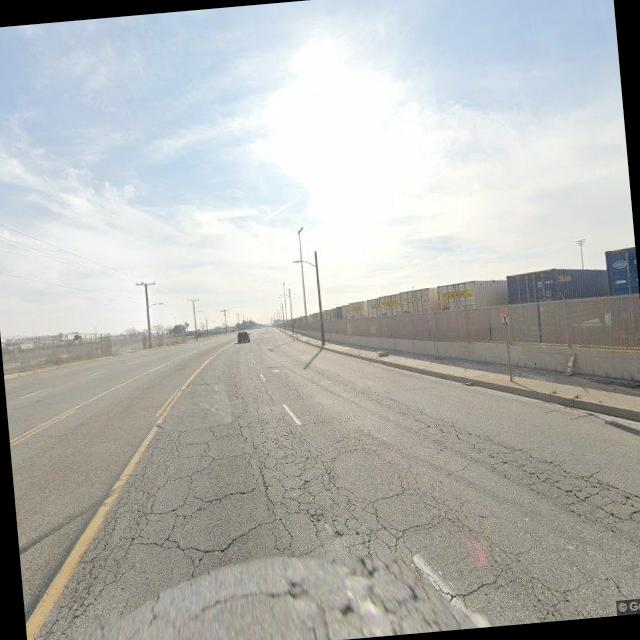crack: (18, 346, 640, 640)
